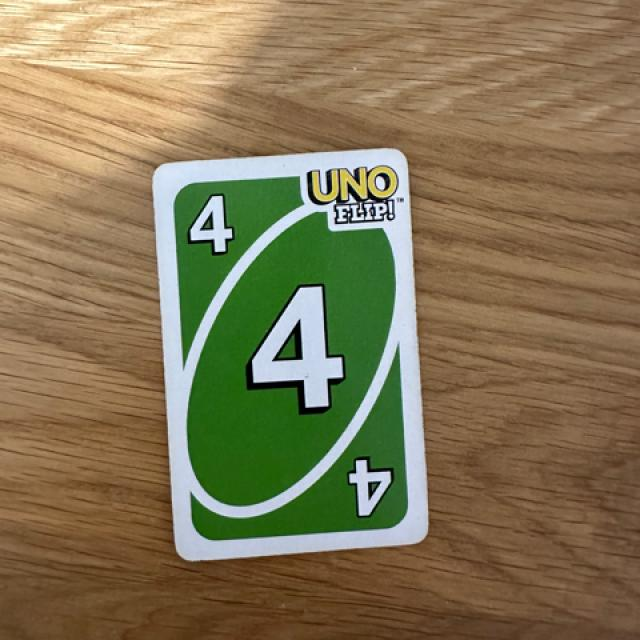lgreen-4: (163, 175, 256, 272)
